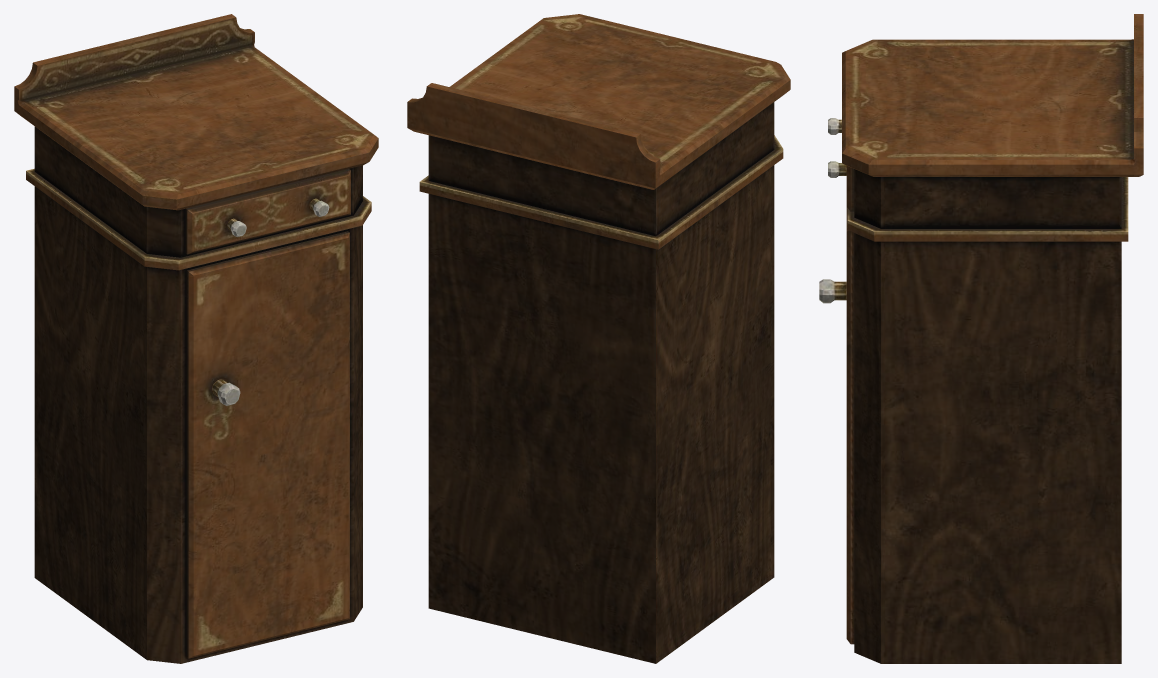
The model's file is bedside-table.glb.
The picture shows the model from 3 angles, left to right: view 1: azimuth 30°, elevation 25°; view 2: azimuth 150°, elevation 25°; view 3: azimuth 270°, elevation 25°; orthographic projection. The views are drawn at different scales.
Parts seen in each view (by area): view 1: defaultMaterial; view 2: defaultMaterial; view 3: defaultMaterial.
Part boxes in pixels (x1,y1,x2,y2): defaultMaterial: (14,14,378,663); defaultMaterial: (407,14,790,663); defaultMaterial: (819,14,1143,663).
Size of the model in its own units: 0.9763 by 2 by 1.09.
1 material, 1 textured.
